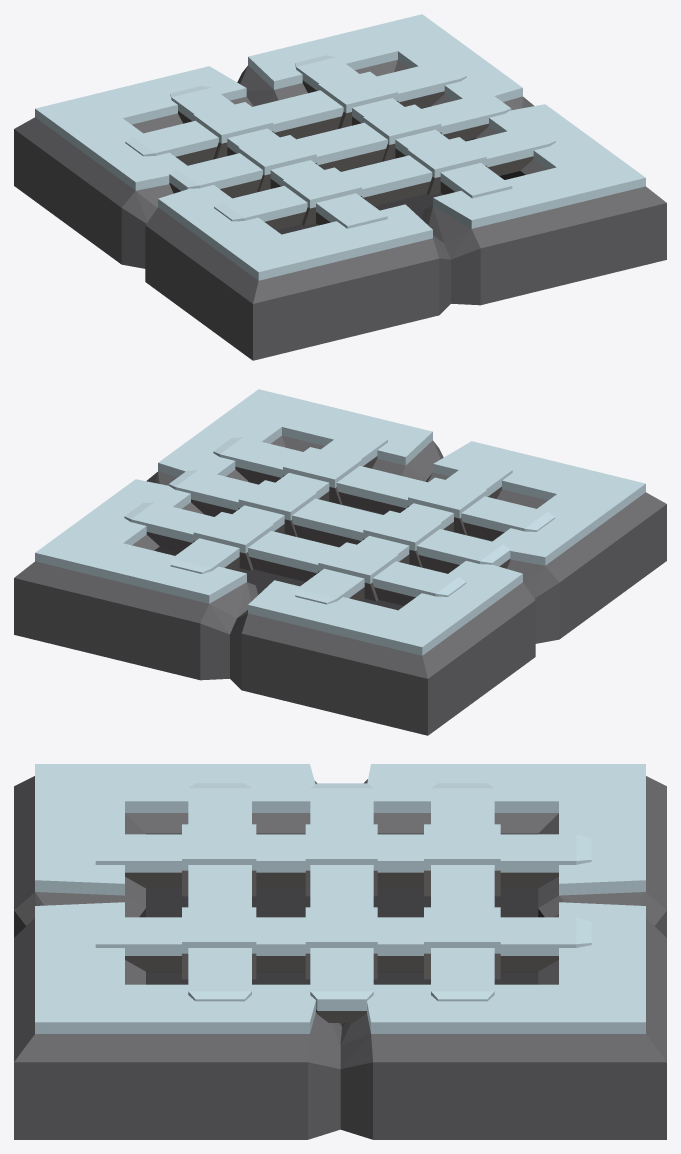
The model's file is SM_Prop_Grate_01_Snow.gltf.
3 renders of one model, top to bottom at view 1: azimuth 30°, elevation 25°; view 2: azimuth 150°, elevation 25°; view 3: azimuth 270°, elevation 25°, orthographic. The views are drawn at different scales.
Parts seen in each view (by area): view 1: SM_Prop_Grate_01_Snow; view 2: SM_Prop_Grate_01_Snow; view 3: SM_Prop_Grate_01_Snow.
Boxes of the visible parts, x1=… form: SM_Prop_Grate_01_Snow: x1=14, y1=14, x2=666, y2=360; SM_Prop_Grate_01_Snow: x1=14, y1=389, x2=666, y2=735; SM_Prop_Grate_01_Snow: x1=14, y1=764, x2=666, y2=1139.
Size of the model in its own units: 0.7322 by 0.1469 by 0.7322.
1 material, 1 textured.
